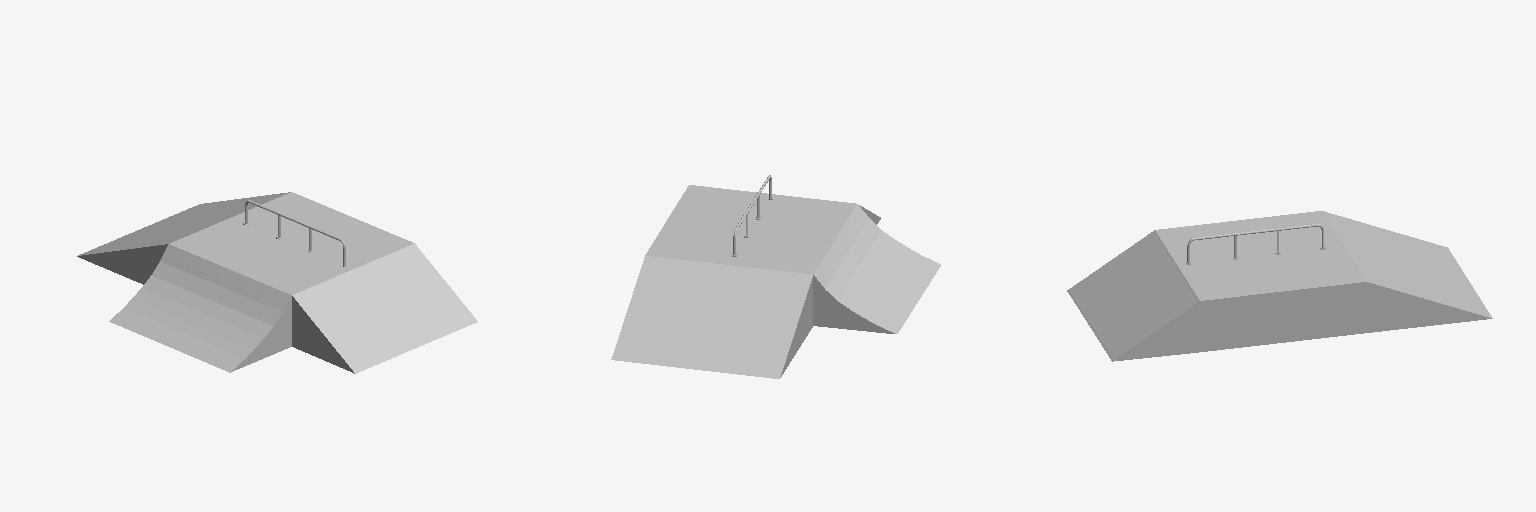
Rendered from Skate_Ramp_Fun_Box_03_.obj.
3 views of the same model, side by side, from view 1: azimuth 30°, elevation 25°; view 2: azimuth 150°, elevation 25°; view 3: azimuth 270°, elevation 25° (orthographic).
Visible parts, largest first — view 1: Skate_Ramp_Fun_Box_03_Skate_Ramp, Skate_Ramp_Fun_Box_03_Metal_Pipes; view 2: Skate_Ramp_Fun_Box_03_Skate_Ramp; view 3: Skate_Ramp_Fun_Box_03_Skate_Ramp, Skate_Ramp_Fun_Box_03_Metal_Pipes.
Part boxes in pixels (x1,y1,x2,y2): Skate_Ramp_Fun_Box_03_Skate_Ramp: (77,192,477,373); Skate_Ramp_Fun_Box_03_Metal_Pipes: (243,200,346,266); Skate_Ramp_Fun_Box_03_Skate_Ramp: (611,185,940,378); Skate_Ramp_Fun_Box_03_Skate_Ramp: (1067,211,1492,361); Skate_Ramp_Fun_Box_03_Metal_Pipes: (1186,224,1325,264).
Bounding box in the file's own units: 383 × 102 × 510.